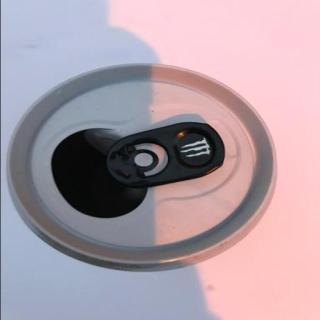Anorganik: (7, 59, 281, 274)
